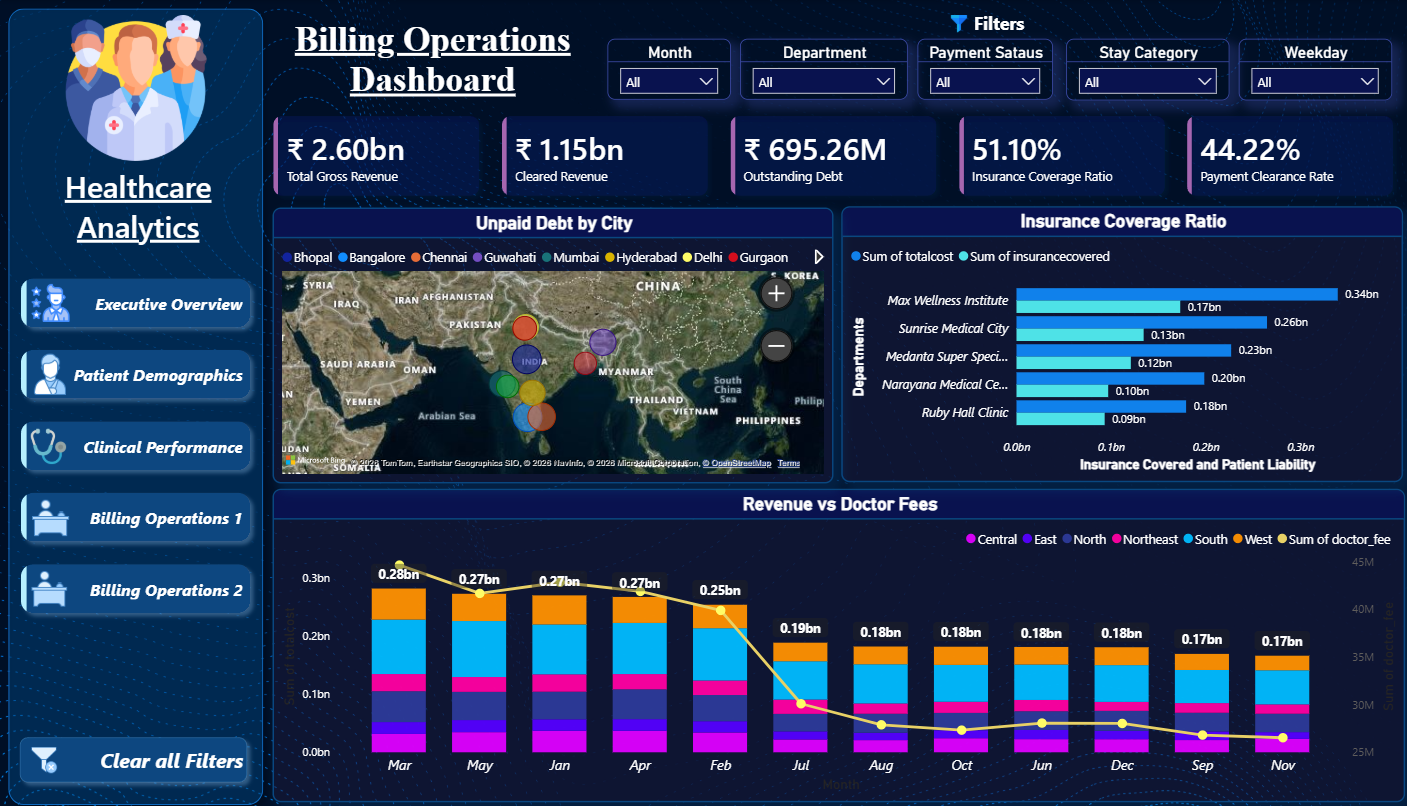

The page's visual inventory and layout, read from the dashboard file:
{"tool":"powerbi","page":{"name":"Billing Operations 1","canvas":[1500,860],"ordinal":3},"visuals":[{"type":"group","id":"g1","title":"Group 2","box":[0,0,288.9,865.2],"z":0,"group":"g5"},{"type":"shape","box":[0,0,288.9,865.2],"z":0,"group":"g1"},{"type":"group","id":"g2","title":"Group 4","box":[626.7,0,874.1,125.3],"z":0,"group":"g4"},{"type":"group","id":"g3","title":"Group 3","box":[626.7,0,874.1,125.3],"z":0,"group":"g2"},{"type":"shape","box":[626.7,0,874.1,125.3],"z":0,"group":"g3"},{"type":"cardVisual","fields":{"Data":["measures_.Total Gross Revenue","measures_.Cleared Revenue","measures_.Outstanding Debt","measures_.Insurance Coverage Ratio","measures_.Payment Clearance Rate"]},"box":[273.6,107,1225.9,119.2],"z":0},{"type":"pageNavigator","box":[13.9,287.4,262.3,374.7],"z":0,"group":"g6"},{"type":"group","id":"g4","title":"Group 5","box":[626.7,0,874.1,125.3],"z":1000},{"type":"textbox","box":[633.8,6.7,859.3,41.6],"z":1000,"group":"g2"},{"type":"image","box":[1001.5,16.2,37.4,18.7],"z":1000,"group":"g4"},{"type":"image","box":[58.1,16.6,172.7,155.2],"z":1000,"group":"g1"},{"type":"slicer","title":"Department","fields":{"Values":["admissions.department"]},"box":[787.1,41.8,178.7,64.8],"z":1000,"group":"g3"},{"type":"image","box":[30.6,300.7,46.7,43.3],"z":1000,"group":"g6"},{"type":"actionButton","box":[12.2,774.8,259.9,66.2],"z":1000,"group":"g5"},{"type":"group","id":"g5","title":"Group 6","box":[0,0,288.9,865.2],"z":2000},{"type":"slicer","title":"Payment Sataus","fields":{"Values":["billing.paymentstatus"]},"box":[976.9,41.8,144.1,64.8],"z":2000,"group":"g3"},{"type":"textbox","box":[18.3,166.7,256.7,116.7],"z":2000,"group":"g1"},{"type":"image","box":[29.6,375.8,48.9,46.7],"z":2000,"group":"g6"},{"type":"image","box":[24.5,793.4,45.4,28.5],"z":2000,"group":"g5"},{"type":"textbox","box":[274.3,7.1,372.9,118.6],"z":3000},{"type":"slicer","title":"Weekday","fields":{"Values":["Calendar.Weekday"]},"box":[1318.3,41.3,162.9,65.3],"z":3000,"group":"g3"},{"type":"image","box":[30.6,530.7,46.7,41.1],"z":3000,"group":"g6"},{"type":"slicer","title":"Stay Category","fields":{"Values":["admissions.stay_category"]},"box":[1135.1,41.3,173.4,65.3],"z":4000,"group":"g3"},{"type":"lineStackedColumnComboChart","title":"Revenue vs Doctor Fees","fields":{"Y":["Sum(billing.totalcost)"],"Category":["Calendar.Month"],"Y2":["Sum(billing.doctor_fee)"],"Series":["hospitals.region"]},"box":[289.2,520,1204.6,333.8],"z":4000},{"type":"image","box":[30,606.6,46.7,40],"z":4000,"group":"g6"},{"type":"slicer","title":"Month","fields":{"Values":["Calendar.Month"]},"box":[647.3,41.8,131.1,64.8],"z":5000,"group":"g3"},{"type":"clusteredBarChart","title":"Insurance Coverage Ratio","fields":{"Y":["Sum(billing.totalcost)","Sum(billing.insurancecovered)"],"Category":["hospitals.hospitalname"]},"box":[895,220,597.5,293.8],"z":5000},{"type":"image","box":[28.9,456.6,47.8,37.8],"z":5000,"group":"g6"},{"type":"map","title":"Unpaid Debt by City","fields":{"Category":["hospitals.city"],"Series":["hospitals.city"],"Size":["measures_.Outstanding Debt"]},"box":[289.6,220.5,596.6,294],"z":6000},{"type":"group","id":"g6","title":"Group 1","box":[13.9,287.4,262.3,374.7],"z":7000}]}

Visuals, with their boxes in screenshot pixels (x1, y1, x2, y2), scaled from the page's 1500x860 canvas onto the 1407x806 screenshot:
"Group 2" group: bbox=(0, 0, 271, 805)
shape: bbox=(0, 0, 271, 805)
"Group 4" group: bbox=(588, 0, 1406, 117)
"Group 3" group: bbox=(588, 0, 1406, 117)
shape: bbox=(588, 0, 1406, 117)
cardVisual - measures_.Total Gross Revenue x measures_.Cleared Revenue: bbox=(257, 100, 1406, 212)
pageNavigator: bbox=(13, 269, 259, 621)
"Group 5" group: bbox=(588, 0, 1406, 117)
textbox: bbox=(595, 6, 1401, 45)
image: bbox=(939, 15, 974, 33)
image: bbox=(54, 16, 216, 161)
"Department" slicer: bbox=(738, 39, 906, 100)
image: bbox=(29, 282, 73, 322)
actionButton: bbox=(11, 726, 255, 788)
"Group 6" group: bbox=(0, 0, 271, 805)
"Payment Sataus" slicer: bbox=(916, 39, 1051, 100)
textbox: bbox=(17, 156, 258, 266)
image: bbox=(28, 352, 74, 396)
image: bbox=(23, 744, 66, 770)
textbox: bbox=(257, 7, 607, 118)
"Weekday" slicer: bbox=(1237, 39, 1389, 100)
image: bbox=(29, 497, 73, 536)
"Stay Category" slicer: bbox=(1065, 39, 1227, 100)
"Revenue vs Doctor Fees" lineStackedColumnComboChart: bbox=(271, 487, 1401, 800)
image: bbox=(28, 569, 72, 606)
"Month" slicer: bbox=(607, 39, 730, 100)
"Insurance Coverage Ratio" clusteredBarChart: bbox=(840, 206, 1400, 482)
image: bbox=(27, 428, 72, 463)
"Unpaid Debt by City" map: bbox=(272, 207, 831, 482)
"Group 1" group: bbox=(13, 269, 259, 621)
